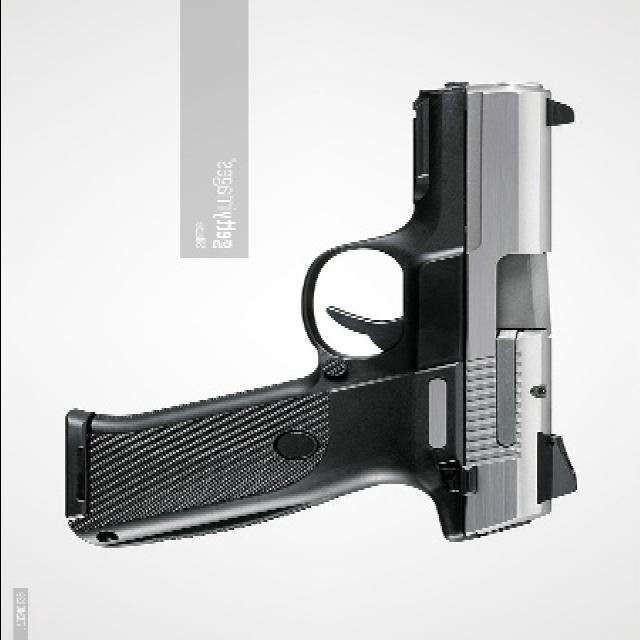handgun: (65, 83, 587, 549)
